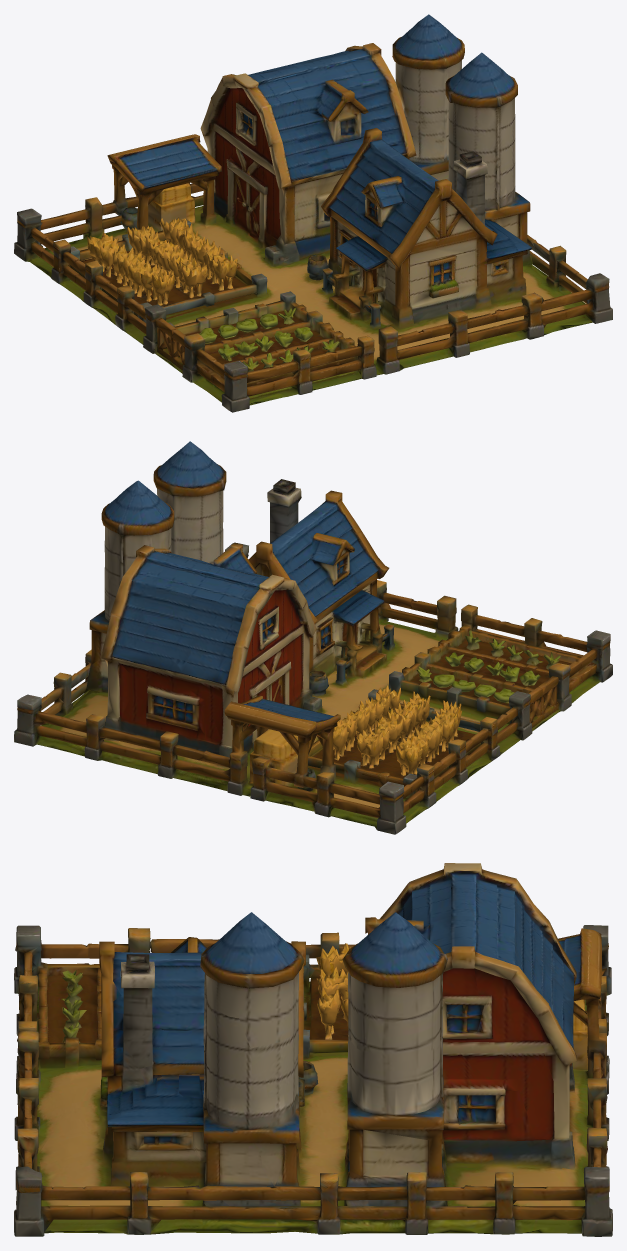
File: farm.glb
3 renders of one model, top to bottom at view 1: azimuth 30°, elevation 25°; view 2: azimuth 150°, elevation 25°; view 3: azimuth 270°, elevation 25°, orthographic. The views are drawn at different scales.
Parts seen in each view (by area): view 1: tripo_node_a08005b5-ff82-4afe-a229-49fffecb0412; view 2: tripo_node_a08005b5-ff82-4afe-a229-49fffecb0412; view 3: tripo_node_a08005b5-ff82-4afe-a229-49fffecb0412.
Boxes of the visible parts, x1,y1,x2,y2 form: tripo_node_a08005b5-ff82-4afe-a229-49fffecb0412: (14,14,612,412); tripo_node_a08005b5-ff82-4afe-a229-49fffecb0412: (14,441,612,834); tripo_node_a08005b5-ff82-4afe-a229-49fffecb0412: (14,863,612,1236).
Size of the model in its own units: 1 by 0.5389 by 0.9908.
Materials: 1 (1 with a texture image).
